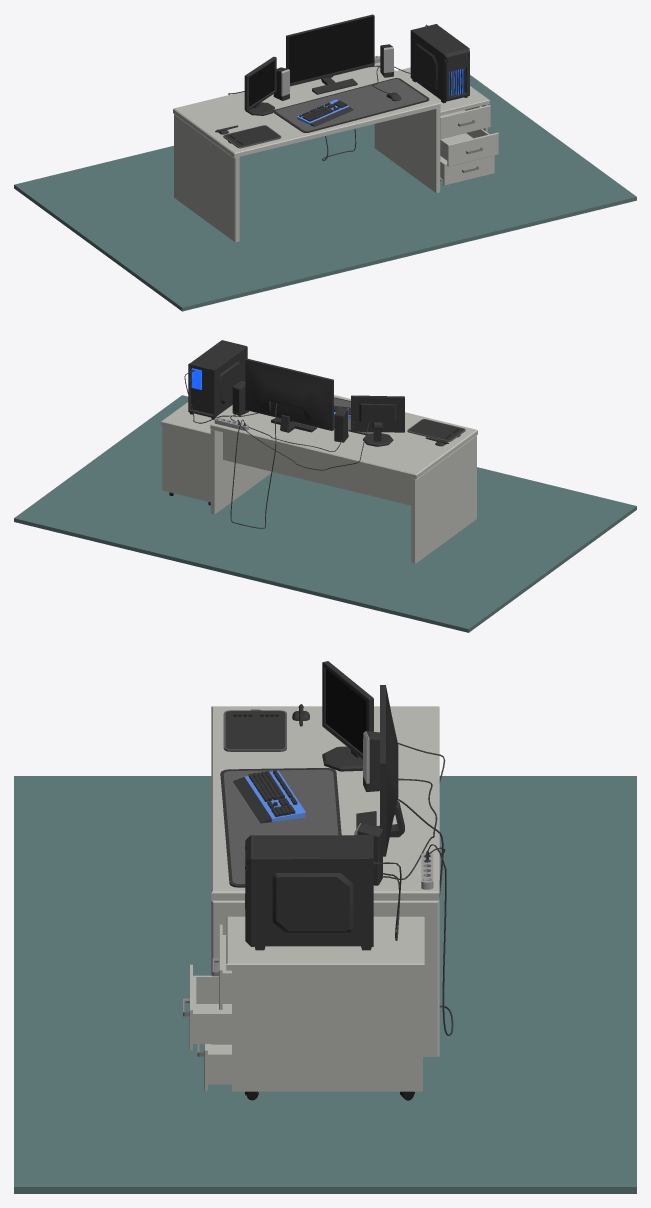
The picture shows the model from 3 angles, top to bottom: view 1: azimuth 30°, elevation 25°; view 2: azimuth 150°, elevation 25°; view 3: azimuth 270°, elevation 25°; orthographic projection. The views are drawn at different scales.
Visible parts, largest first — view 1: pCube5, Table1, RightMonitor, Table2, Computer, Mat1, LeftMonitor, Tablet, Keyboard, SpeakerLeft, SpeakerRight; view 2: pCube5, Table1, RightMonitor, Table2, Computer, LeftMonitor, Tablet, SpeakerLeft, SpeakerRight; view 3: pCube5, Table2, Table1, Computer, Mat1, LeftMonitor, RightMonitor, Tablet, Keyboard, SpeakerLeft, MainMonitorCable, SpeakerRight.
Boxes of the visible parts, box(x1,y1,x2,y2) form: pCube5: box(14, 75, 636, 311); Table1: box(173, 62, 440, 241); RightMonitor: box(286, 14, 374, 94); Table2: box(396, 67, 498, 185); Computer: box(410, 24, 469, 103); Mat1: box(273, 78, 429, 132); LeftMonitor: box(244, 56, 276, 115); Tablet: box(223, 125, 281, 148); Keyboard: box(297, 99, 353, 126); SpeakerLeft: box(273, 67, 289, 100); SpeakerRight: box(380, 44, 393, 77); pCube5: box(14, 395, 636, 632); Table1: box(210, 395, 477, 563); RightMonitor: box(245, 358, 333, 432); Table2: box(161, 402, 232, 505); Computer: box(188, 340, 247, 419); LeftMonitor: box(351, 395, 404, 446); Tablet: box(407, 419, 465, 441); SpeakerLeft: box(334, 407, 348, 442); SpeakerRight: box(232, 381, 248, 415); pCube5: box(14, 776, 636, 1193); Table2: box(183, 916, 424, 1100); Table1: box(211, 706, 439, 1056); Computer: box(245, 834, 373, 950); Mat1: box(220, 768, 341, 887); LeftMonitor: box(322, 661, 373, 771); RightMonitor: box(356, 685, 404, 856); Tablet: box(223, 709, 286, 751); Keyboard: box(233, 770, 305, 823); SpeakerLeft: box(363, 731, 379, 791); MainMonitorCable: box(397, 798, 453, 1035); SpeakerRight: box(354, 823, 382, 885).
Bounding box in the file's own units: 22.35 × 7.17 × 14.32.
